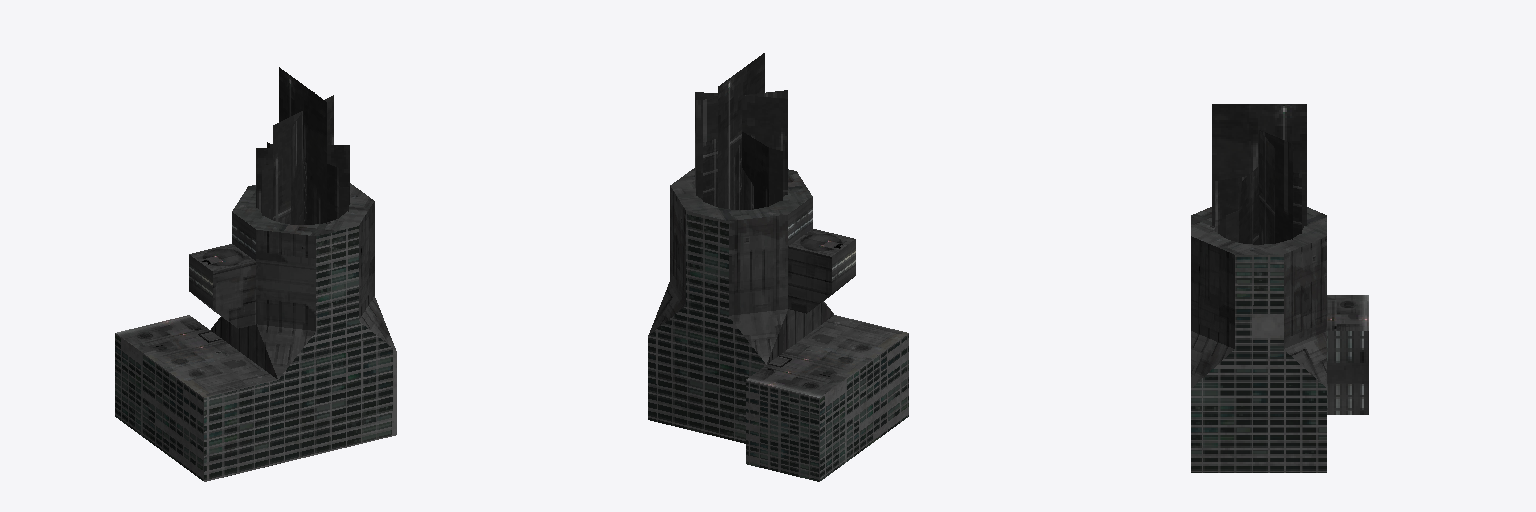
3 views of the same model, side by side, from view 1: azimuth 30°, elevation 25°; view 2: azimuth 150°, elevation 25°; view 3: azimuth 270°, elevation 25° (orthographic).
Visible parts, largest first — view 1: building_25; view 2: building_25; view 3: building_25.
Boxes of the visible parts, box(x1,y1,x2,y2) form: building_25: box(115, 67, 396, 481); building_25: box(648, 53, 908, 481); building_25: box(1191, 104, 1368, 472).
Bounding box in the file's own units: 76.43 × 129 × 61.38.
1 materials, 1 textured.